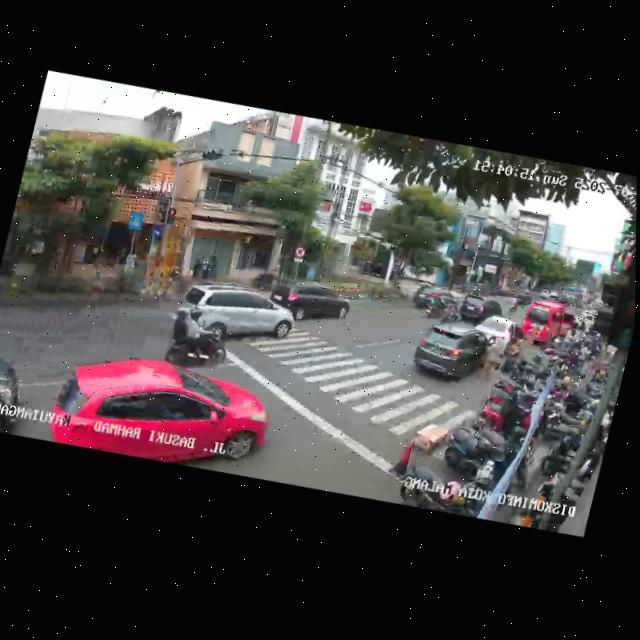car: (43, 331, 278, 488), (170, 271, 302, 363), (407, 315, 496, 395), (266, 271, 355, 332), (517, 295, 579, 354), (0, 340, 35, 436), (468, 307, 525, 359), (408, 280, 462, 324), (454, 290, 505, 331)
motorcycle: (162, 297, 236, 375), (438, 295, 460, 327), (420, 288, 441, 320)
